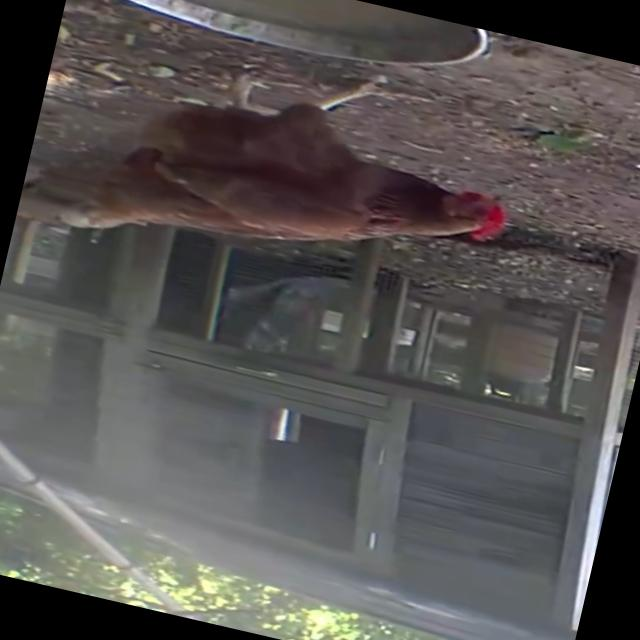walking: (46, 10, 530, 331)
